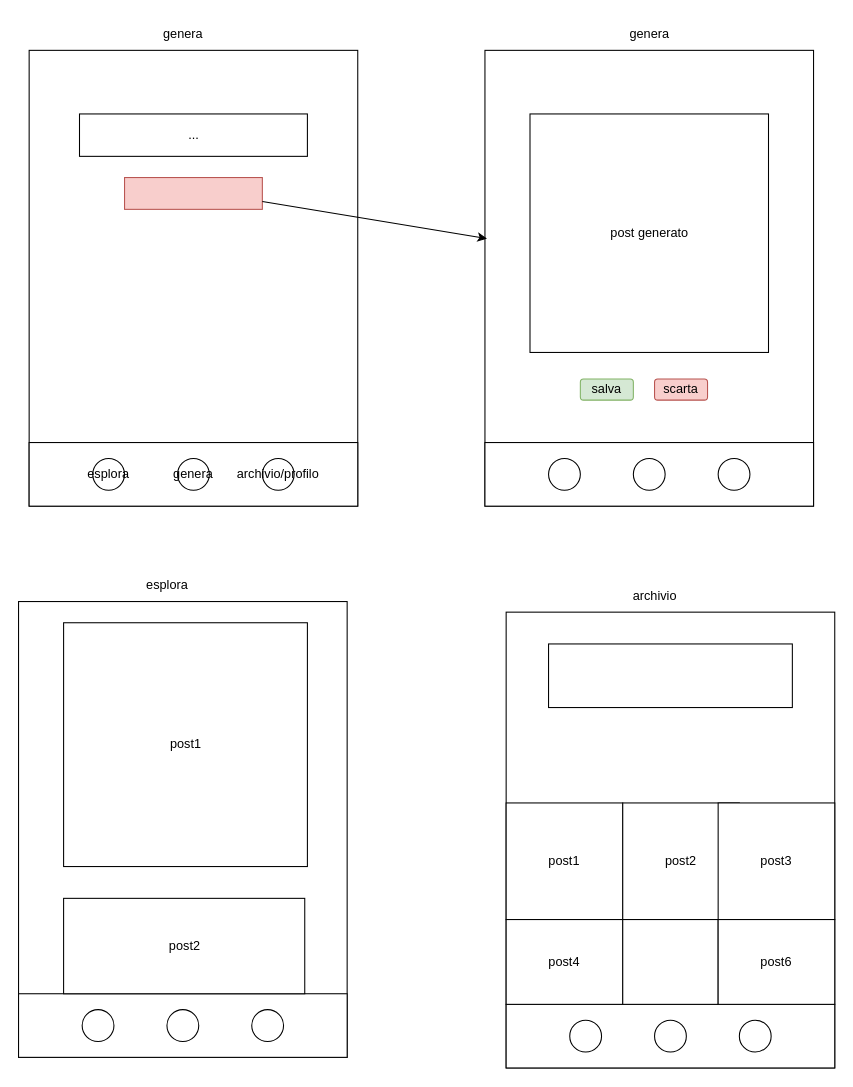
Image size: 853x1087. Some labels were removed from this diagram. The centre of each missing label's shape, as x and y in pixels:
"nome_utente" belongs at pixel 669 675.
"post5" belongs at pixel 670 961.
"tasto genera fake news" belongs at pixel 192 192.
